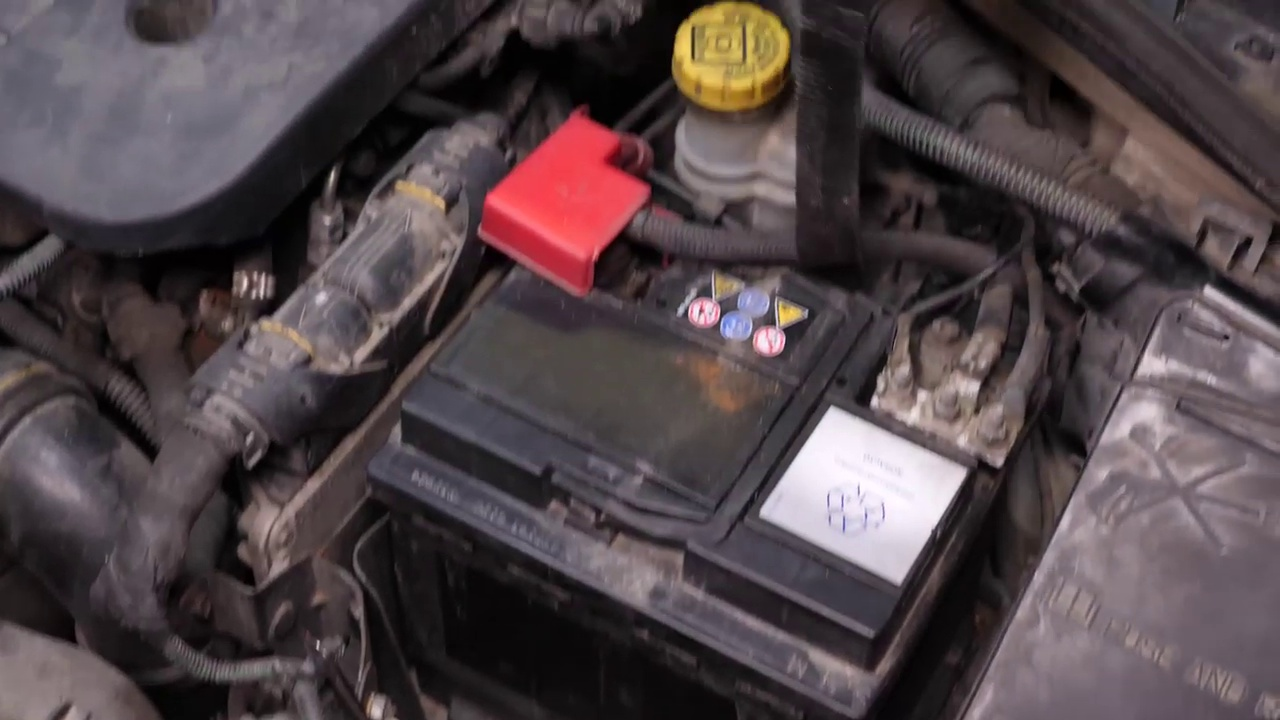battery: (406, 133, 1031, 651)
neg_connected: (851, 302, 1041, 476)
pos_connected: (457, 128, 666, 294)
